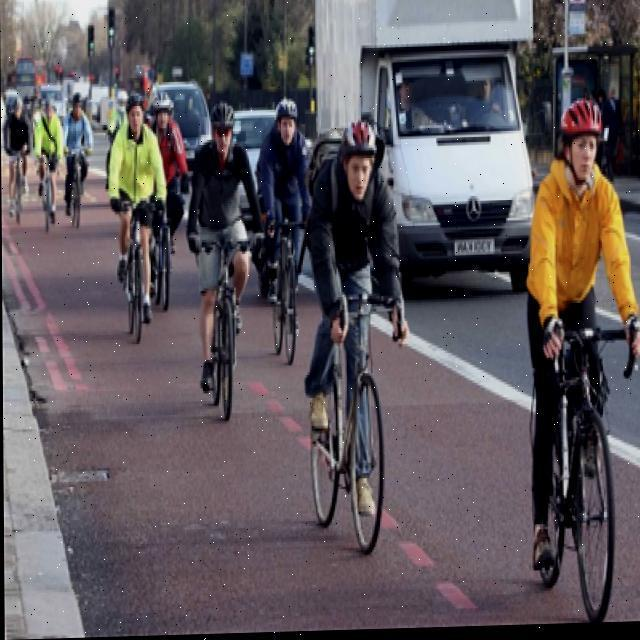Helmet: (559, 99, 609, 198), (337, 121, 382, 202), (207, 97, 238, 162), (273, 96, 305, 152), (122, 89, 148, 138)
